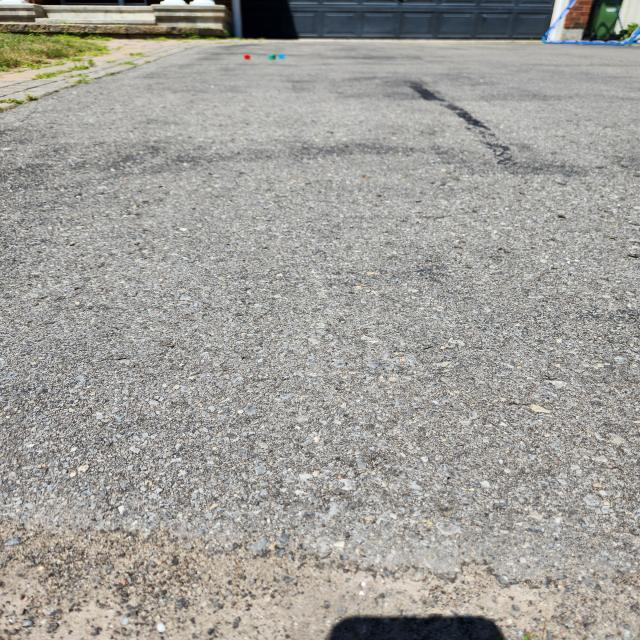bluecube: (278, 53, 284, 59)
green cube: (268, 54, 276, 60)
red cube: (244, 54, 250, 60)
